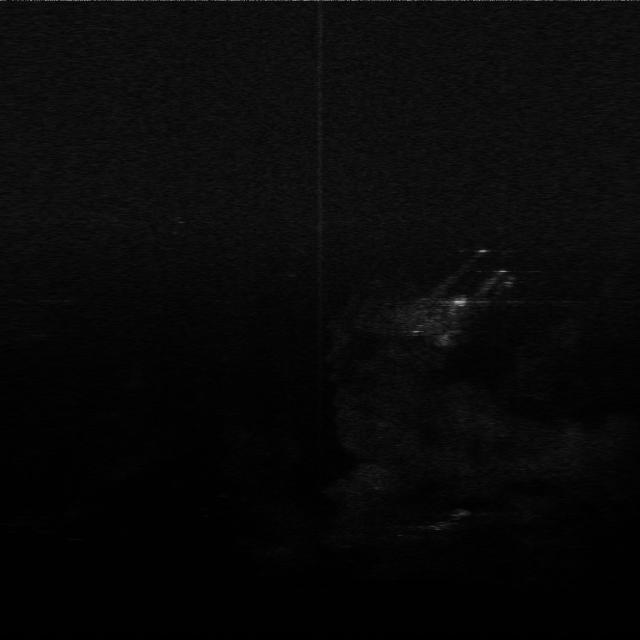rov: (447, 294, 472, 312)
